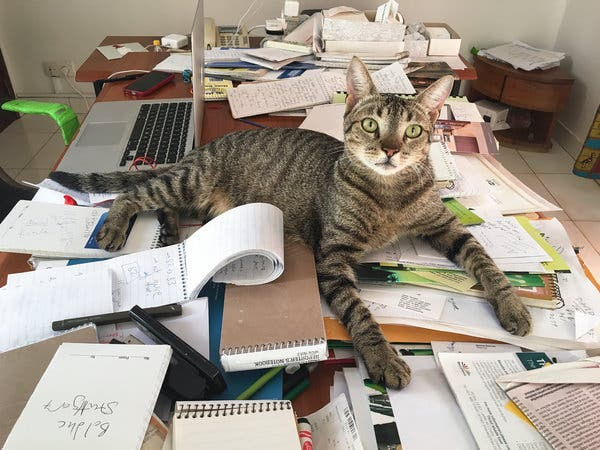cat: (38, 67, 527, 376)
laptop: (48, 3, 209, 176)
